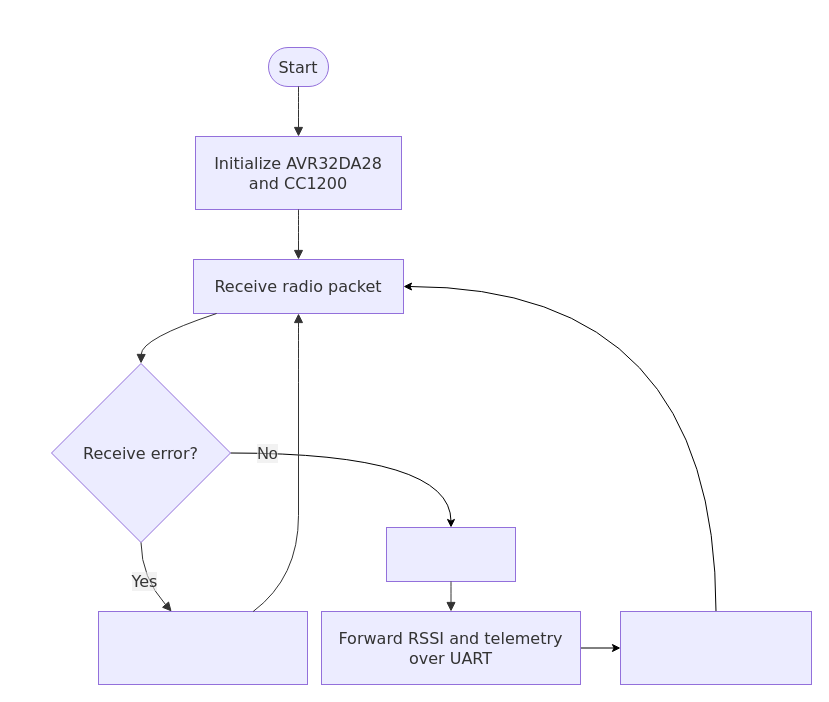
Image size: 829x702. Some labels were removed from this diagram. The centre of each missing label's shape, as x and y in pixels:
Ground-station PC stores binary data: (x=716, y=647)
Handle error and recover receiver: (x=203, y=647)
Read RSSI: (x=451, y=554)
